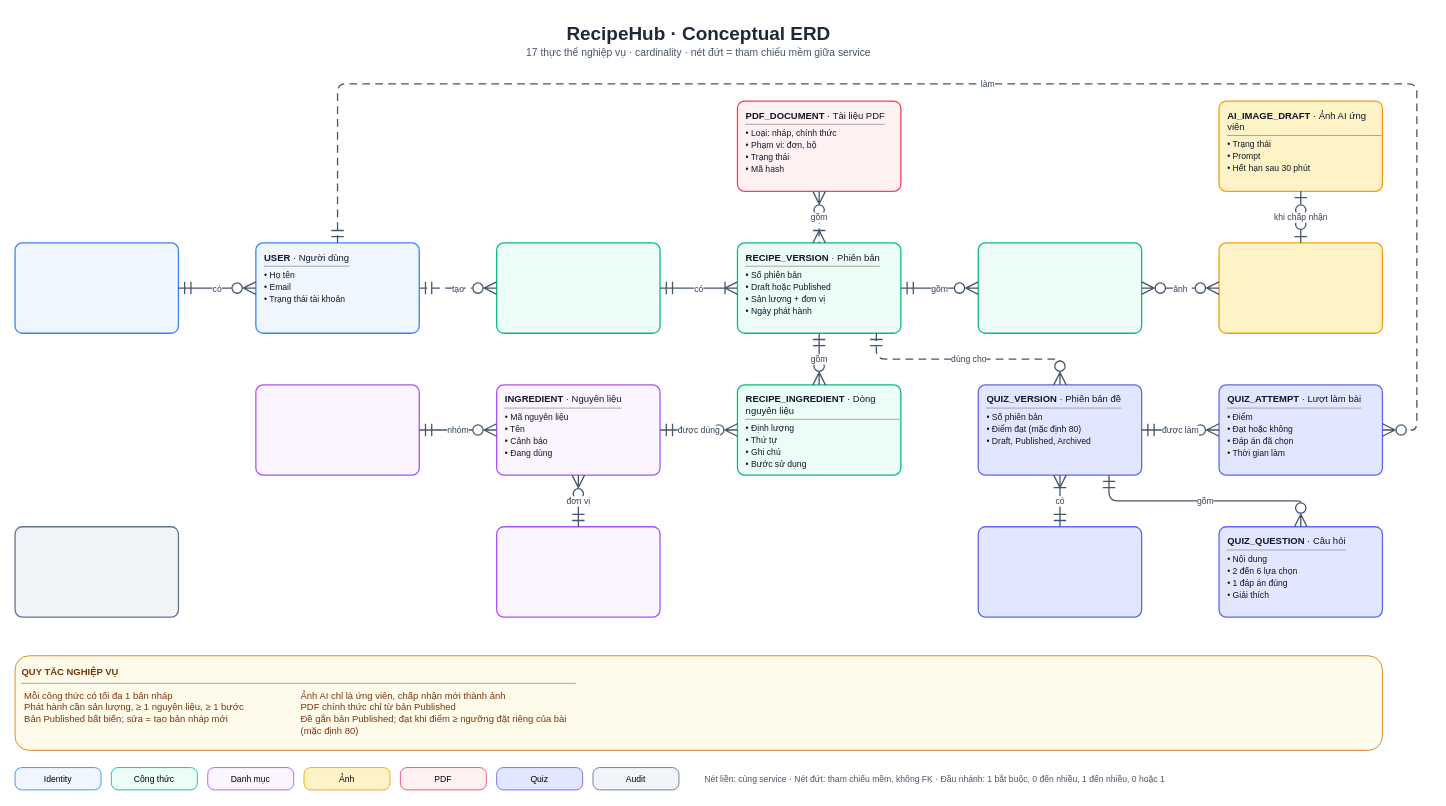
The diagram is 1446 pixels wide and 806 high, and some of its shapes have lost their labels. Here are the shapes that lost their labels. From the top down, the centre of each, then its label:
[96,288]: ROLE · Vai trò • Mã vai trò • Tên vai trò • 3 vai: admin, rnd, viewer
[578,288]: RECIPE · Công thức • Mã công thức • Tên món • Trạng thái lưu trữ
[1059,288]: STEP · Bước SOP • Thứ tự • Tiêu đề, mô tả • Thời lượng
[1300,288]: MEDIA_ASSET · Ảnh • Nguồn: thật hoặc AI • Tên tệp • Trạng thái
[337,429]: INGREDIENT_GROUP · Nhóm • Mã nhóm • Tên nhóm
[96,571]: AUDIT_LOG · Nhật ký • Người thực hiện • Hành động • Đối tượng • Thời điểm
[578,571]: UNIT · Đơn vị • Mã đơn vị (g, ml) • Nhóm đo • Hệ số quy đổi
[1059,571]: QUIZ · Bộ đề • Mã bộ đề • Tiêu đề
